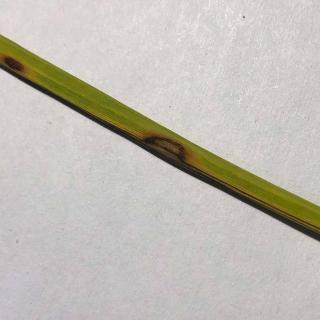Blast: (117, 110, 212, 187), (0, 38, 45, 92)
